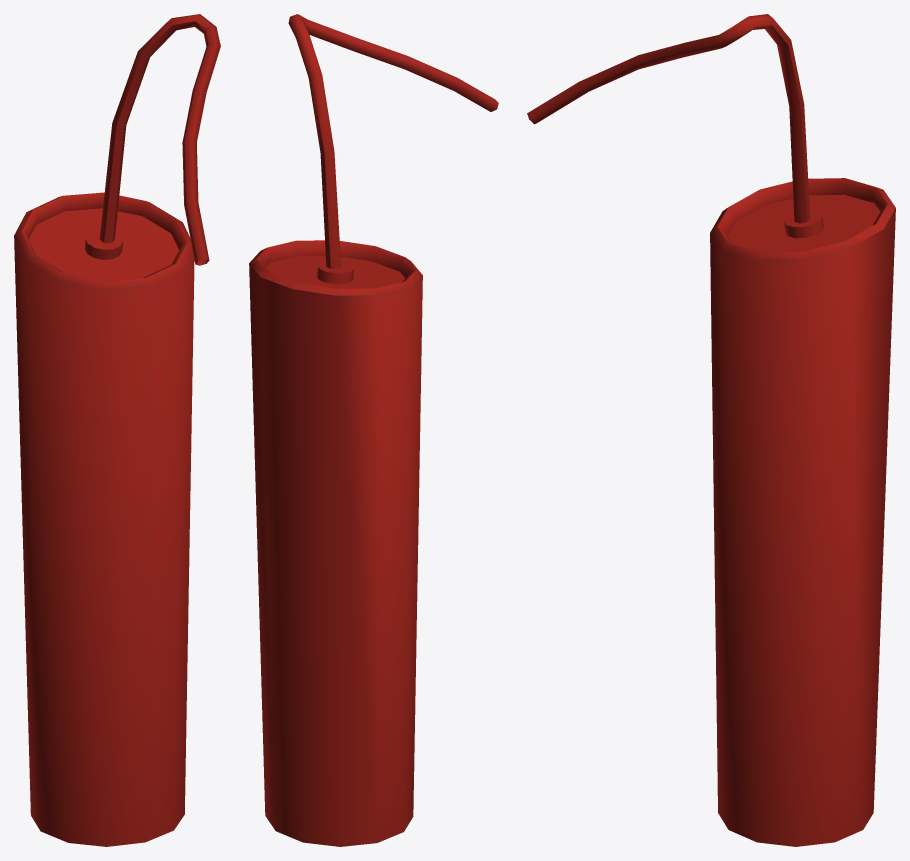
Rendered from Dinamite.fbx.
3 renders of one model, left to right at view 1: azimuth 30°, elevation 25°; view 2: azimuth 150°, elevation 25°; view 3: azimuth 270°, elevation 25°, orthographic. The views are drawn at different scales.
Visible parts, largest first — view 1: Dinamite; view 2: Dinamite; view 3: Dinamite.
Part boxes in pixels (x1,y1,x2,y2): Dinamite: [14, 14, 220, 846]; Dinamite: [249, 14, 498, 846]; Dinamite: [527, 14, 895, 846].
Bounding box in the file's own units: 8.12 × 39.39 × 15.86.
